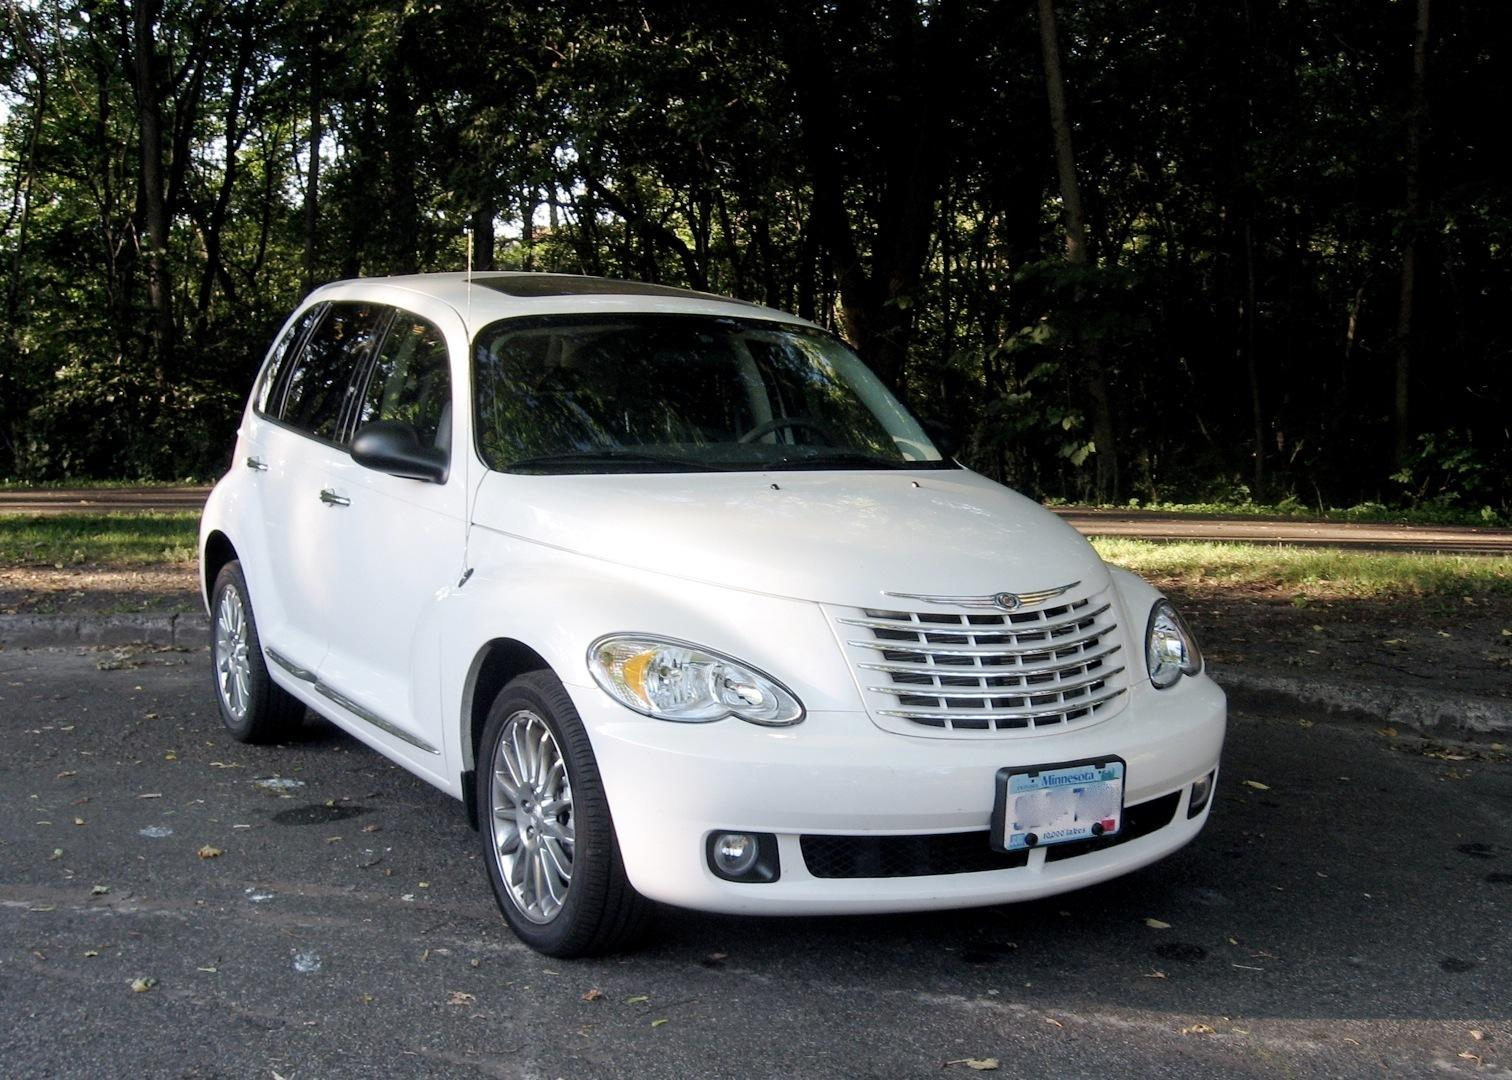Chrysler: (871, 568, 1112, 631)
